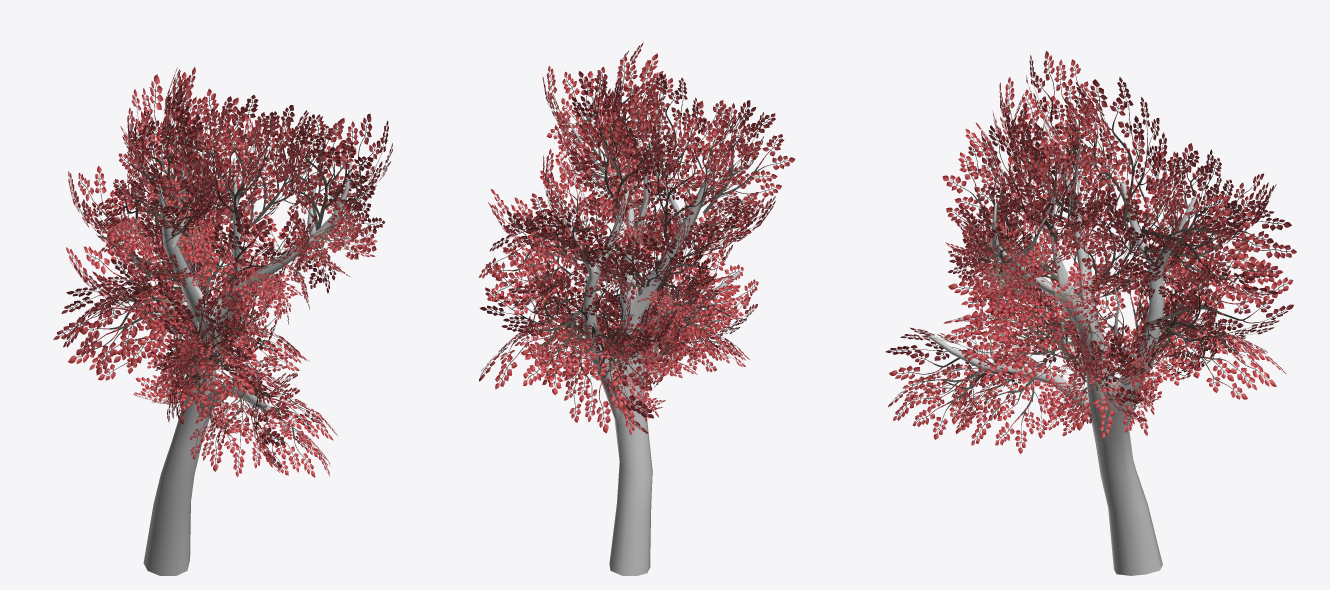
File: Tree_02_Bigger_Flip.FBX
3 renders of one model, left to right at view 1: azimuth 30°, elevation 25°; view 2: azimuth 150°, elevation 25°; view 3: azimuth 270°, elevation 25°, orthographic. The views are drawn at different scales.
Parts seen in each view (by area): view 1: Cylinder004; view 2: Cylinder004; view 3: Cylinder004.
Boxes of the visible parts, box(x1,y1,x2,y2) form: Cylinder004: box(53, 67, 392, 575); Cylinder004: box(478, 42, 795, 575); Cylinder004: box(885, 51, 1296, 575).
Size of the model in its own units: 4019 by 6440 by 5130.
